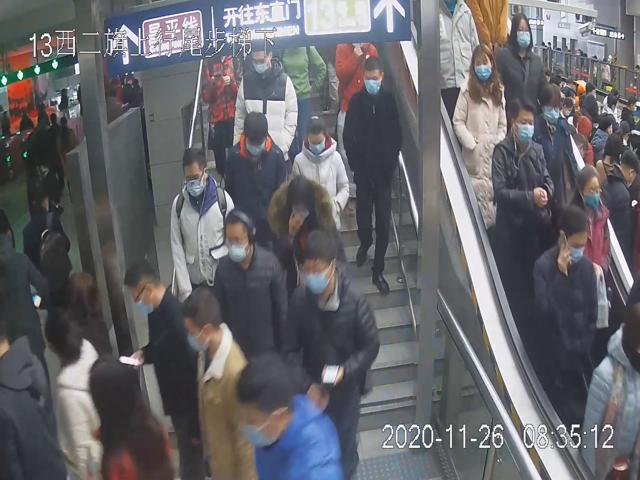person: (287, 227, 379, 480), (124, 260, 203, 480), (344, 52, 402, 294), (183, 288, 256, 480), (490, 95, 556, 289), (451, 38, 507, 232), (171, 144, 237, 294), (231, 42, 297, 167), (223, 109, 285, 241), (287, 113, 348, 244), (493, 12, 548, 136)
